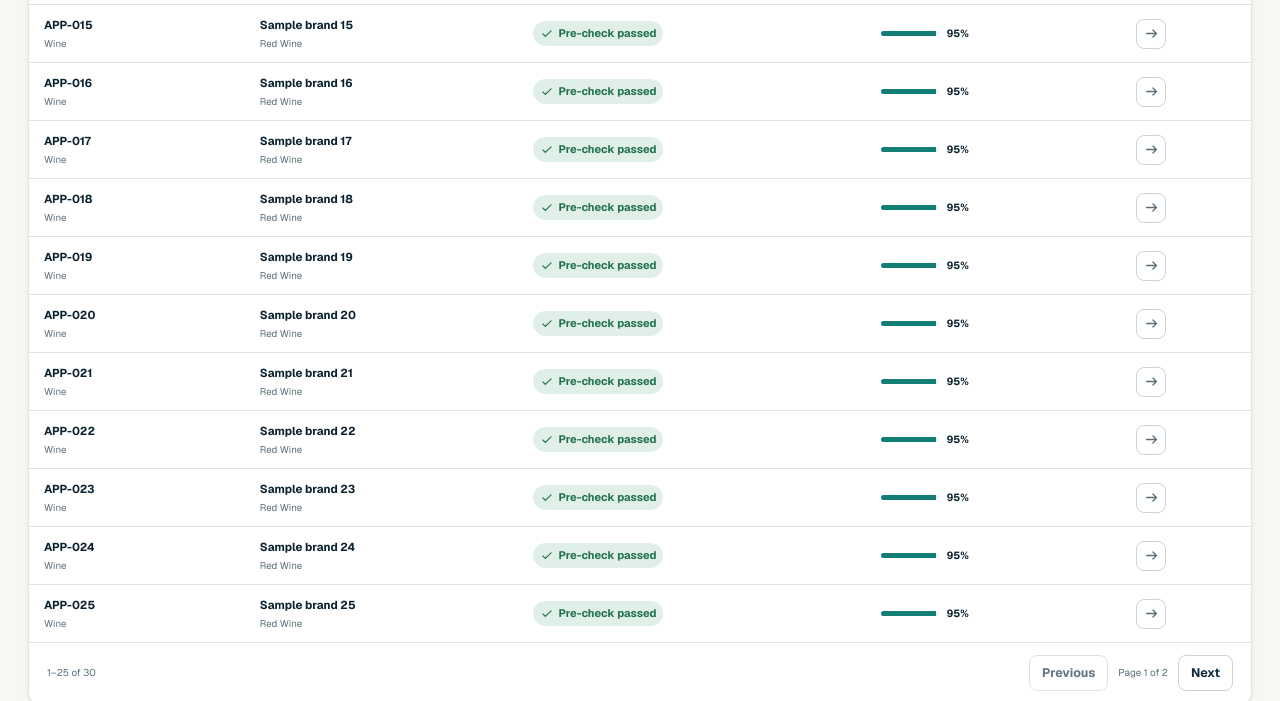
Test: BatchDashboard › paginates a large batch instead of rendering hundreds of rows
(page scrolled)
Expected: the text "APP-026" is not shown
Click the button "Next".
click(1206, 673)  # box x1=1178 y1=655 x2=1233 y2=691
(page scrolled)
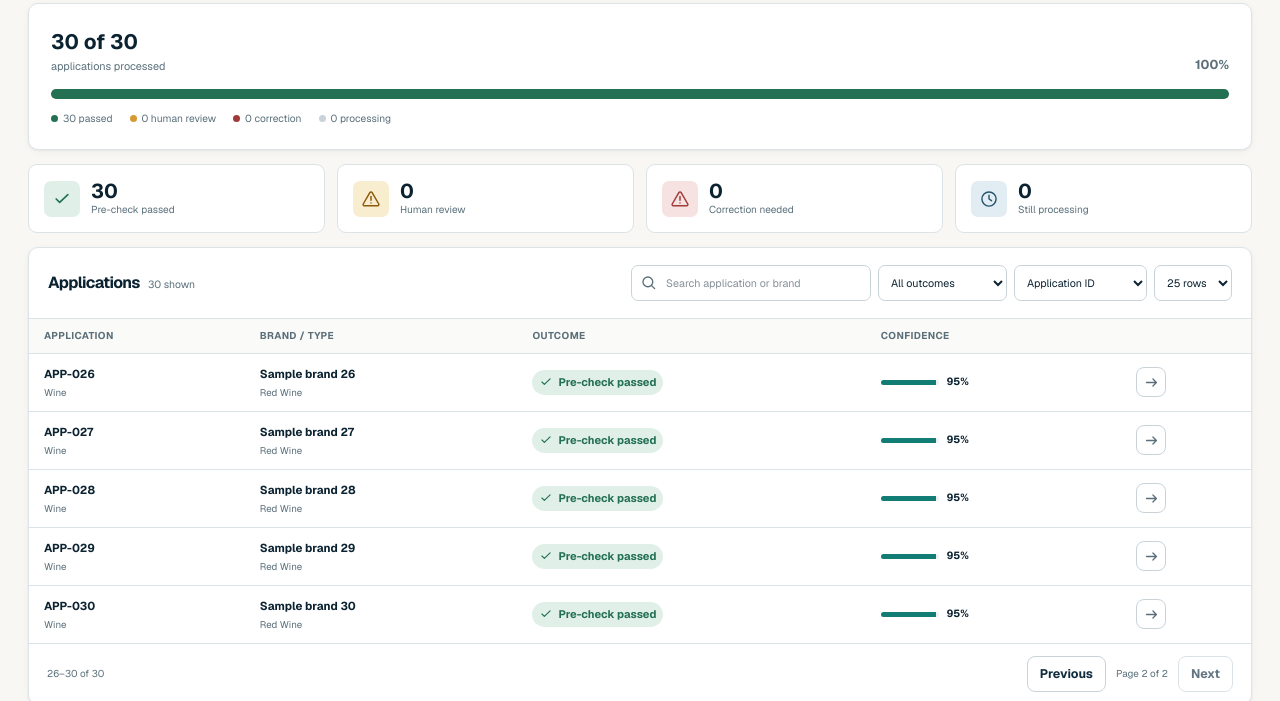
Now the text "APP-026" is shown, box x1=44 y1=366 x2=95 y2=381
Now the text "26–30 of 30" is shown, box x1=47 y1=666 x2=104 y2=681
Select "50 rows" in the 3rd dropdown named "Rows per page" at (1193, 284), box x1=1154 y1=266 x2=1232 y2=302
(page scrolled)
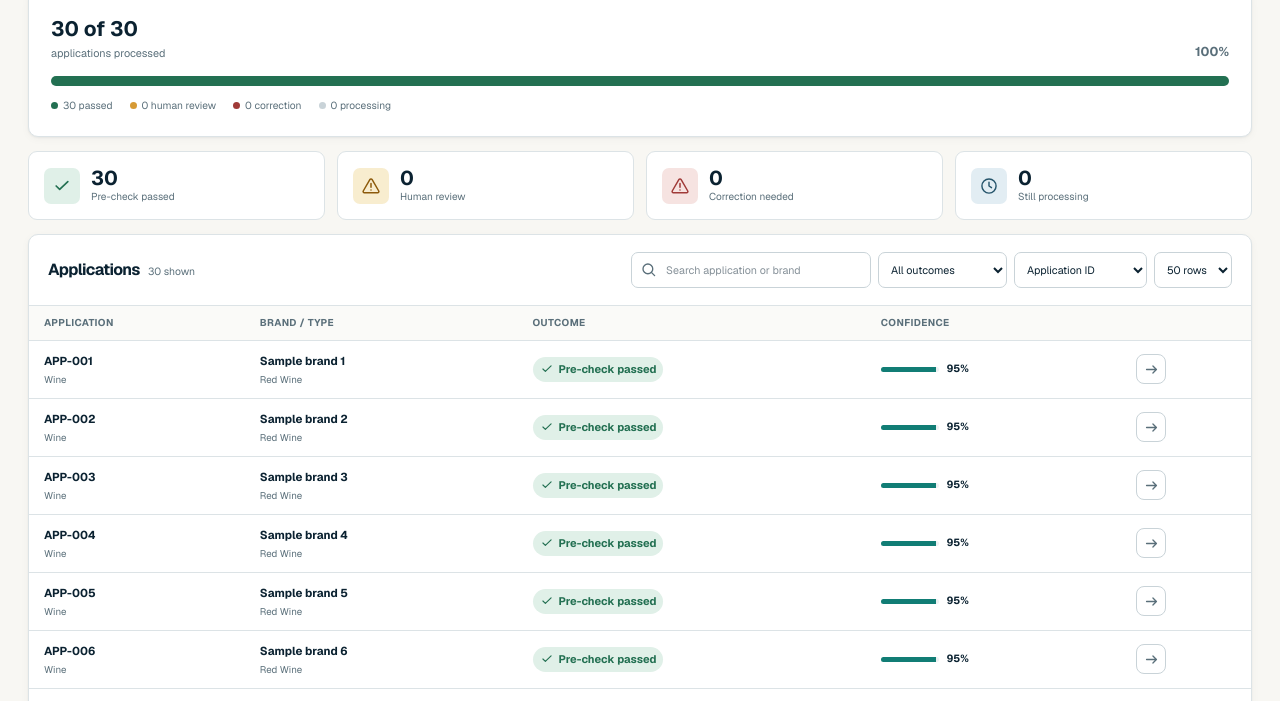
Now the number of rows is 31
Now the text "APP-001" is shown, box x1=44 y1=353 x2=93 y2=368
